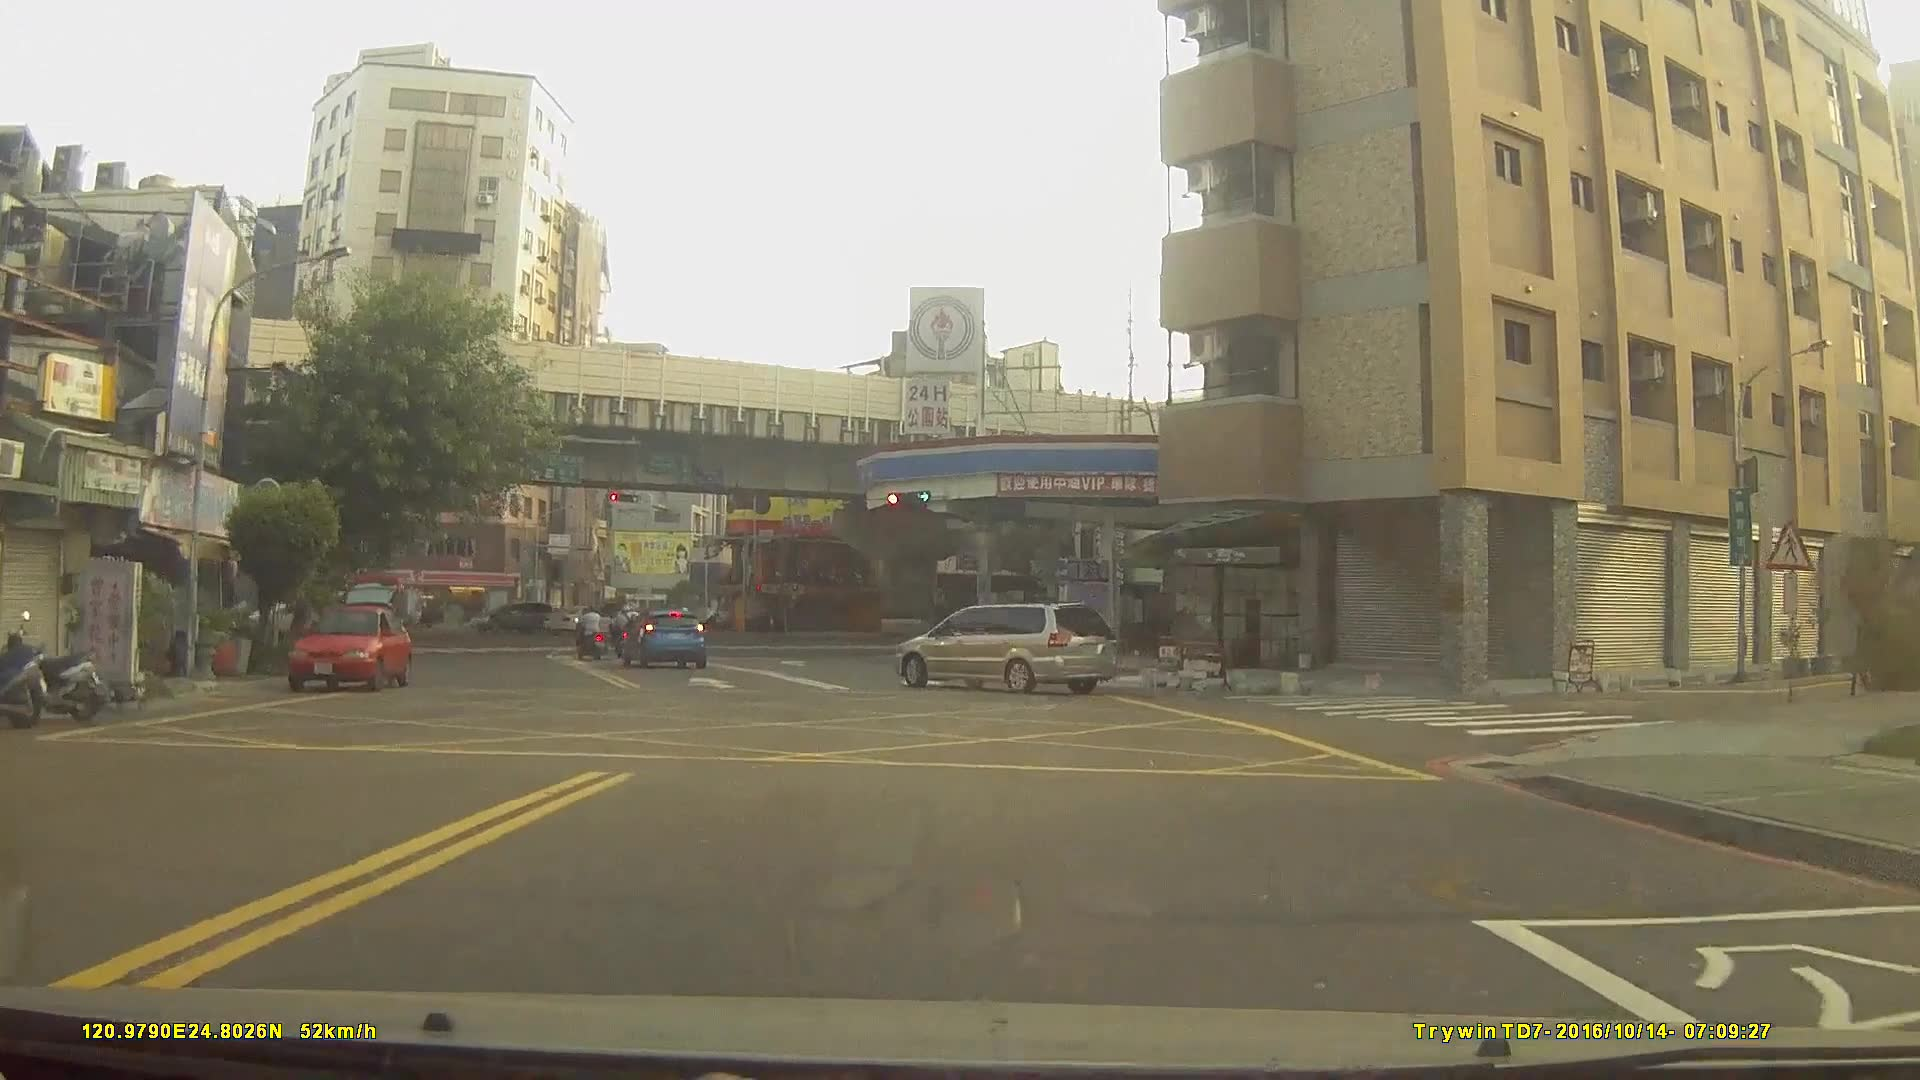rider: (573, 603, 606, 662)
vehicle: (894, 601, 1117, 695), (284, 602, 413, 693), (616, 608, 708, 670), (467, 598, 553, 633), (542, 604, 620, 635)
